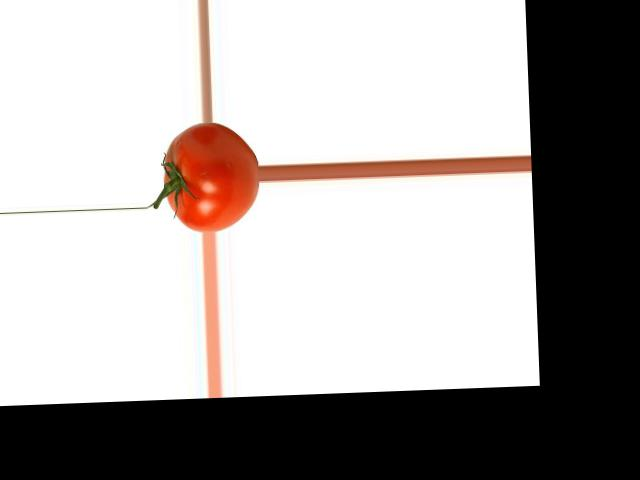tomato: (161, 120, 259, 233)
